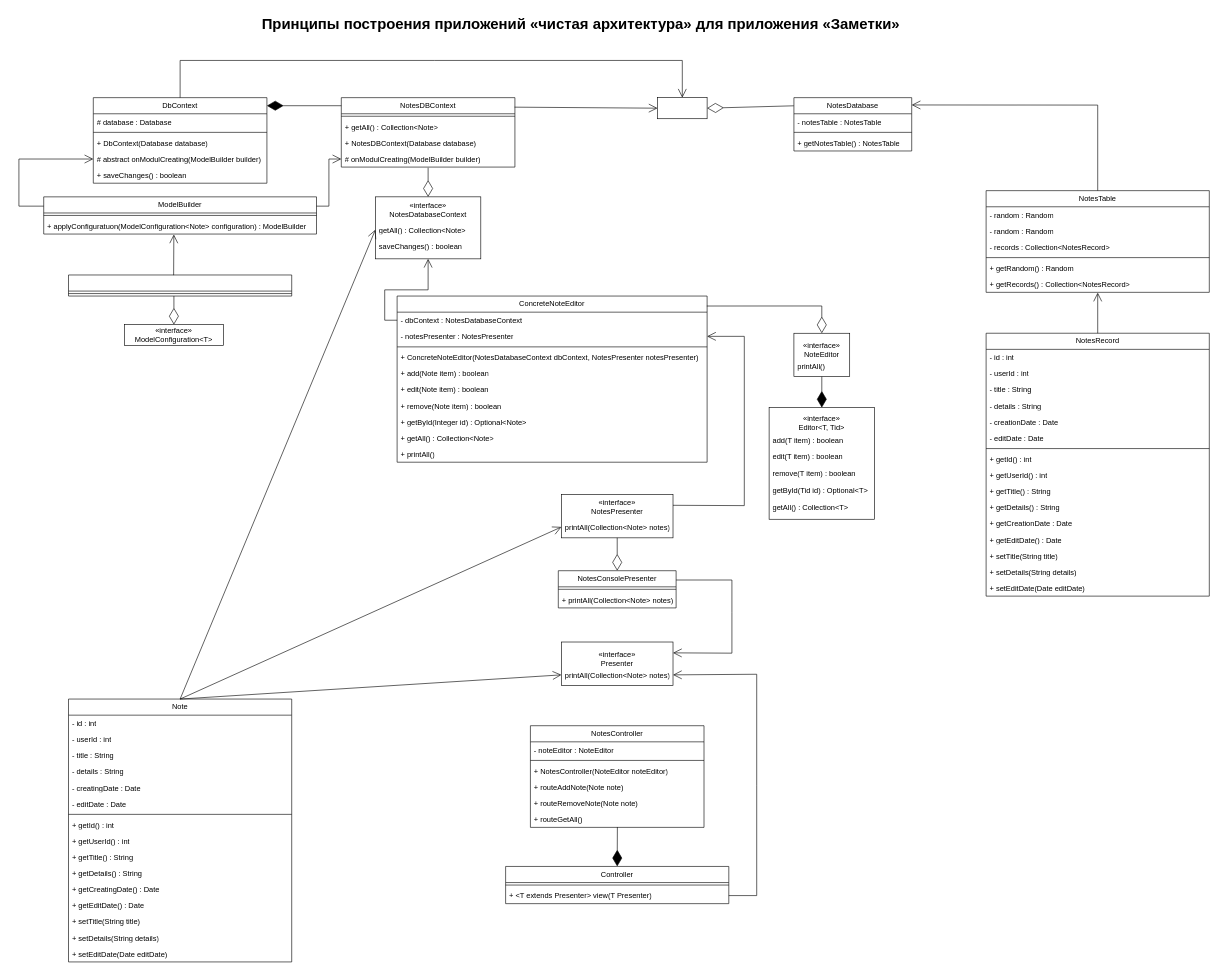
This 1220x974 diagram has some shape labels left out. The centre of each missing label's shape, as x and y in pixels:
NoteConfiguration: (180,285)
«interface» Database: (682,108)
